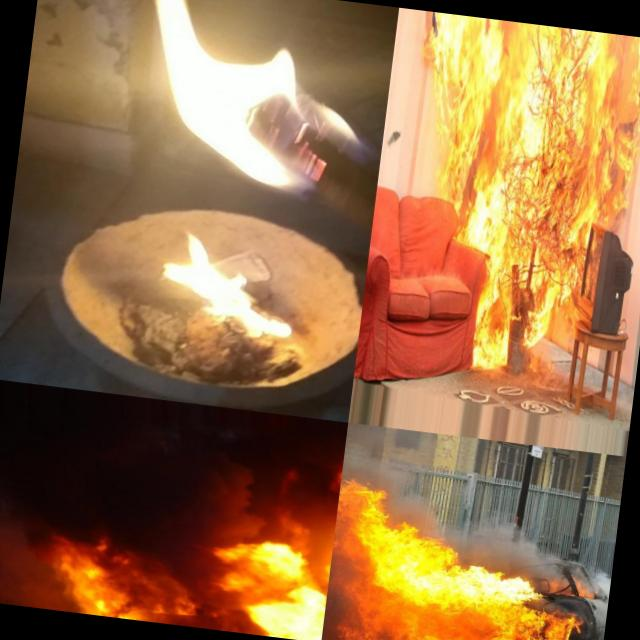fire: (469, 21, 640, 381), (98, 0, 368, 209), (321, 536, 579, 640), (399, 11, 512, 238), (149, 228, 296, 342), (205, 539, 331, 640), (334, 476, 456, 550), (47, 526, 141, 598), (266, 459, 322, 549), (132, 585, 208, 627), (91, 593, 132, 619)
smoke: (446, 499, 584, 567), (196, 448, 272, 544), (341, 422, 446, 488), (0, 516, 57, 588), (4, 585, 94, 614), (583, 557, 613, 616)
